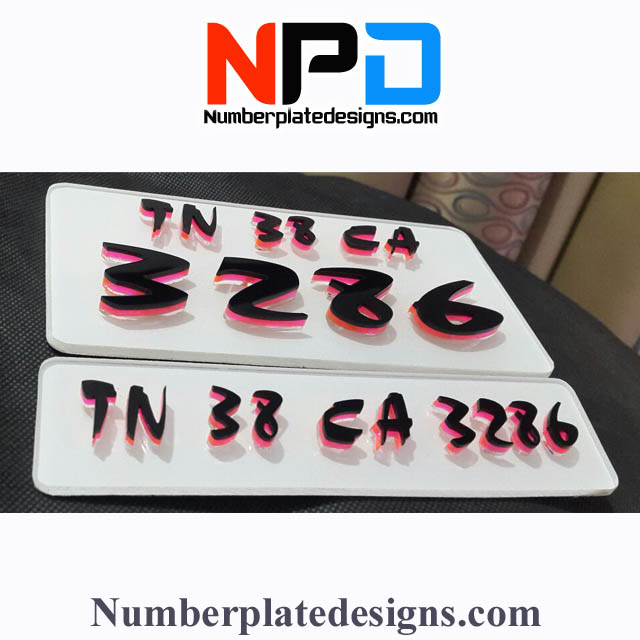number_plate: (35, 353, 626, 498)
